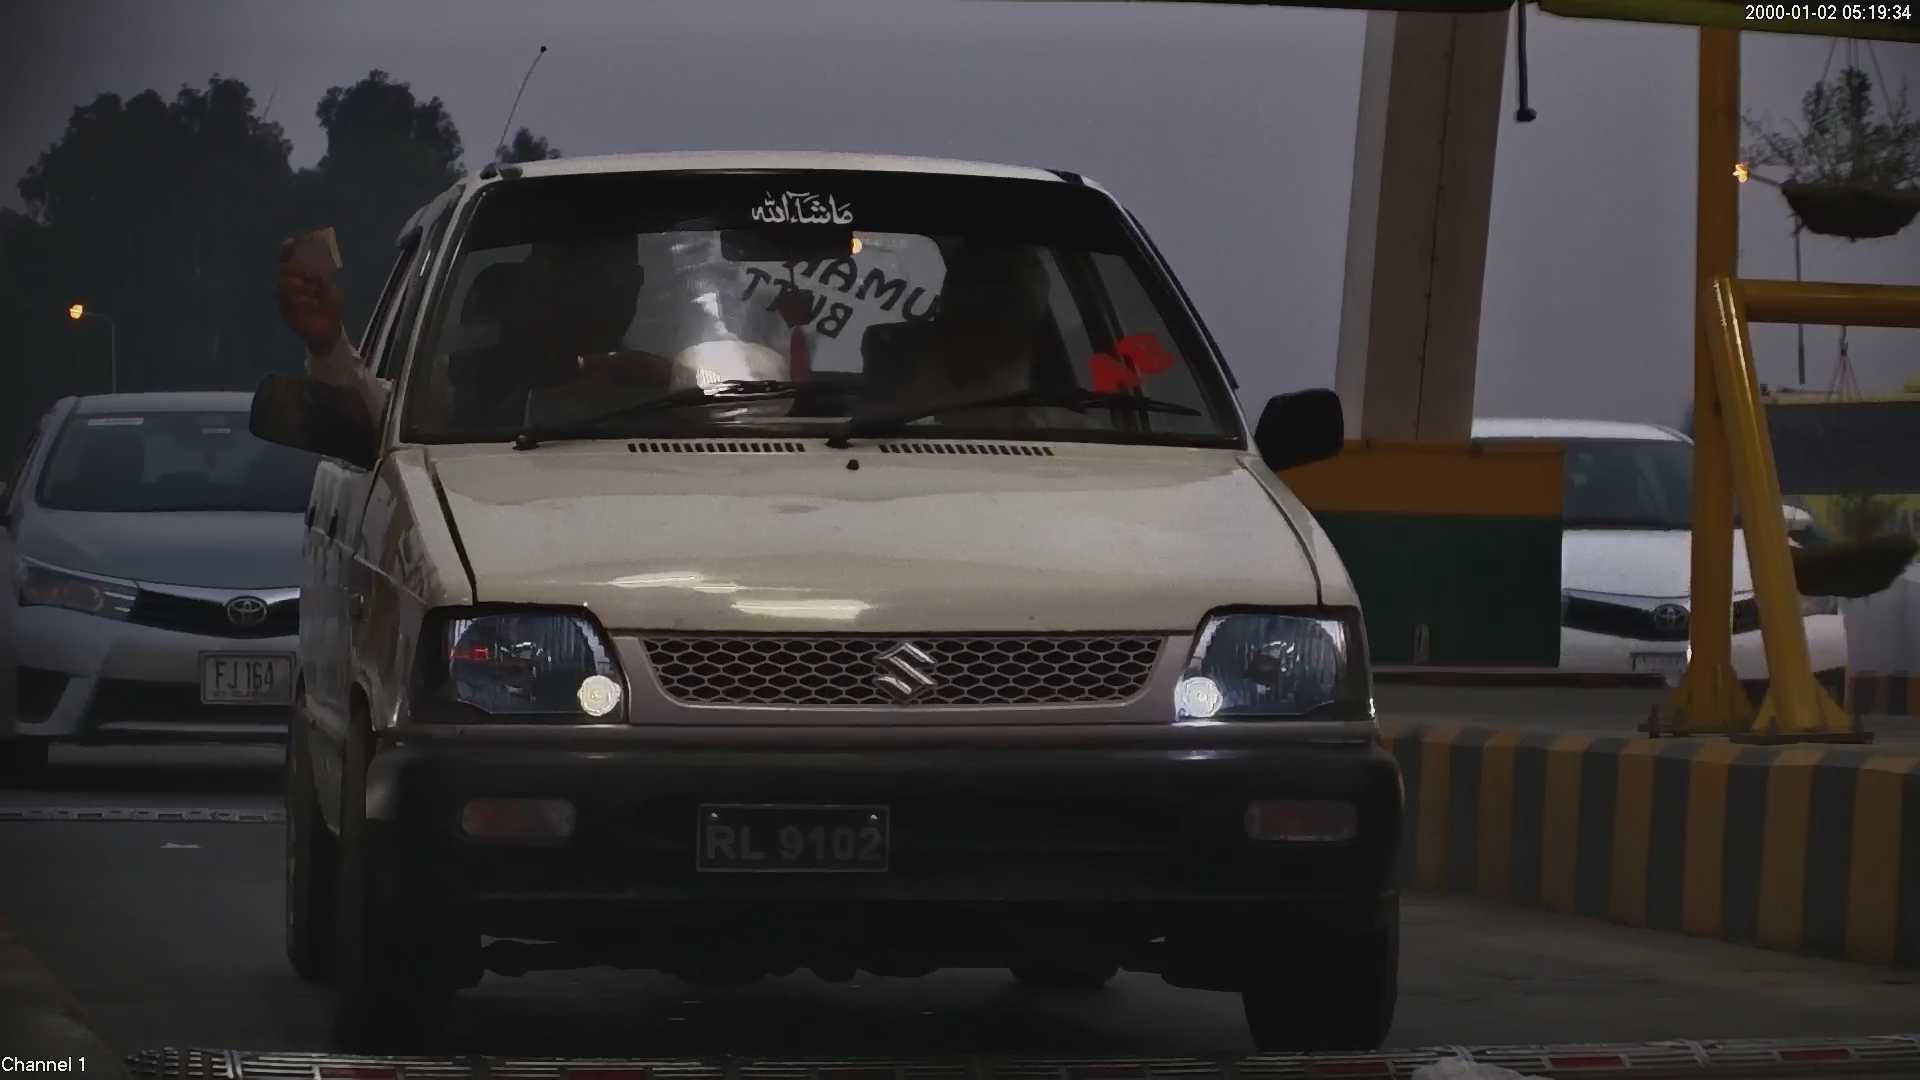Number_Plate: (680, 786, 903, 888)
